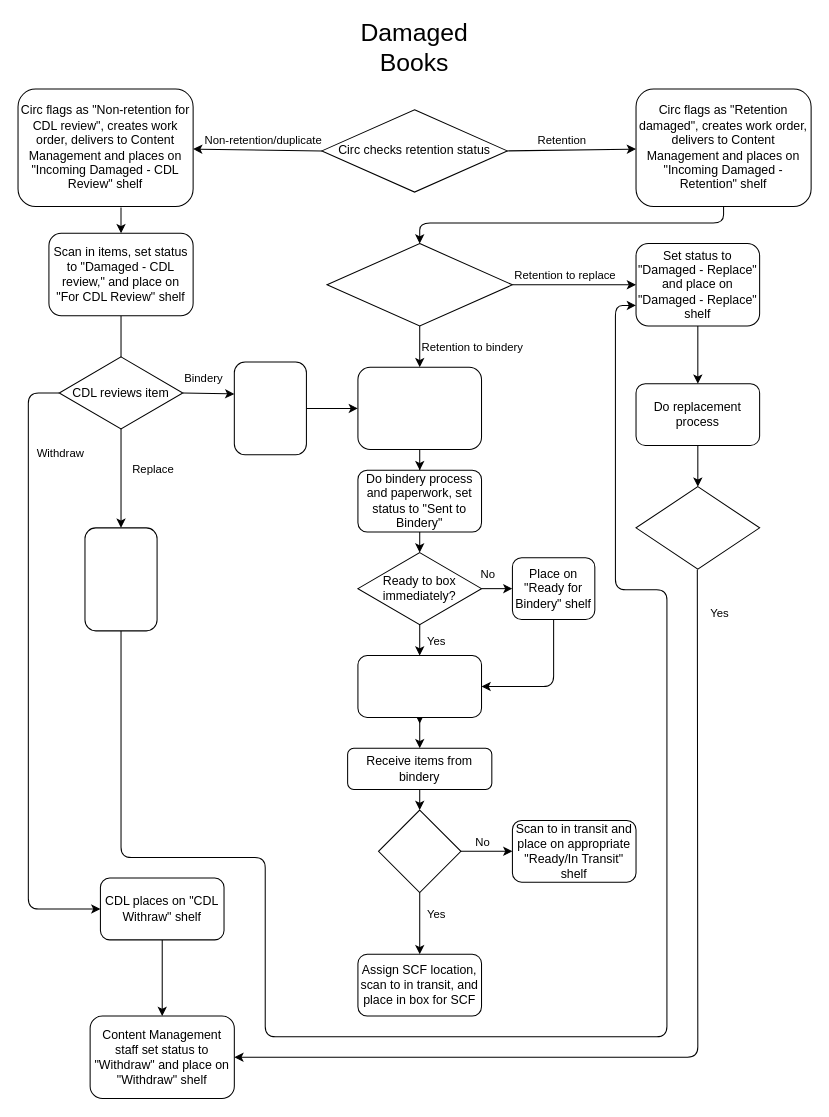
Image size: 829x1117. Some labels were removed from this diagram. The centre of each missing label's shape, as x and y in pixels:
Box items and send to bindery: (419,686)
CDL places on "CDL Rebind" shelf: (269,408)
CDL places on "CDL Replace" shelf: (120,579)
Decide if items should be replaced or sent to bindery: (419,284)
Does old item need to be withdrawn?: (697,527)
Item goes to WRLC-SCF?: (419,850)
Set status to "Damaged - Bindery" and place on "Damaged - Bindery" shelf: (419,408)
